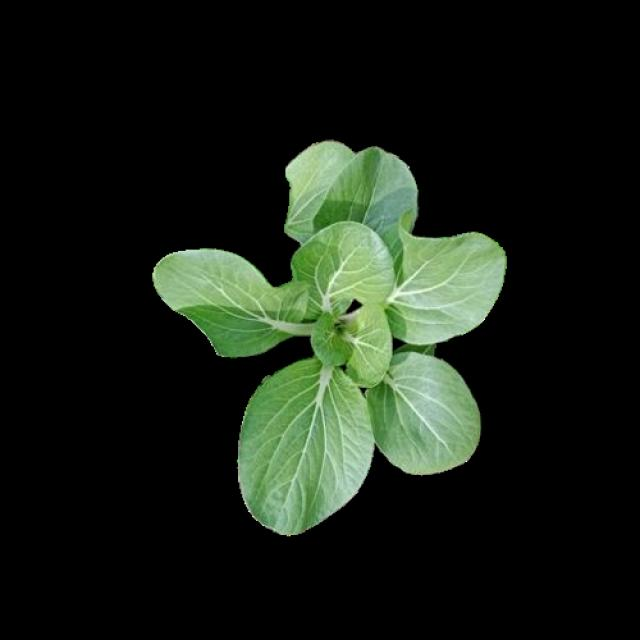healthy: (155, 160, 502, 530)
not-mature: (156, 146, 504, 532)
